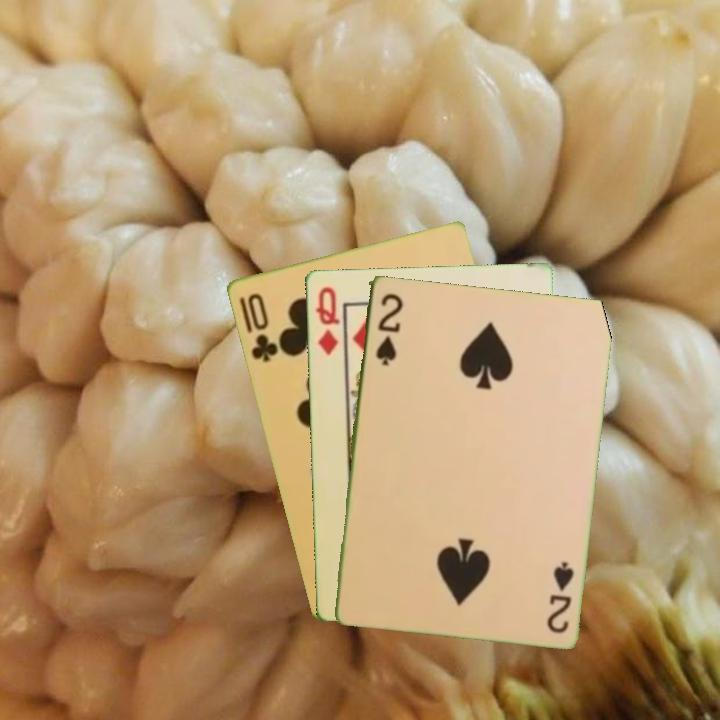10c: (243, 289, 281, 365)
2s: (371, 289, 405, 368), (542, 558, 576, 636)
Qd: (312, 282, 342, 357)
